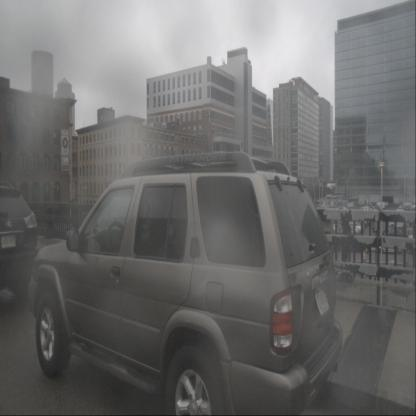cone: (404, 254, 408, 263), (362, 251, 365, 262)
